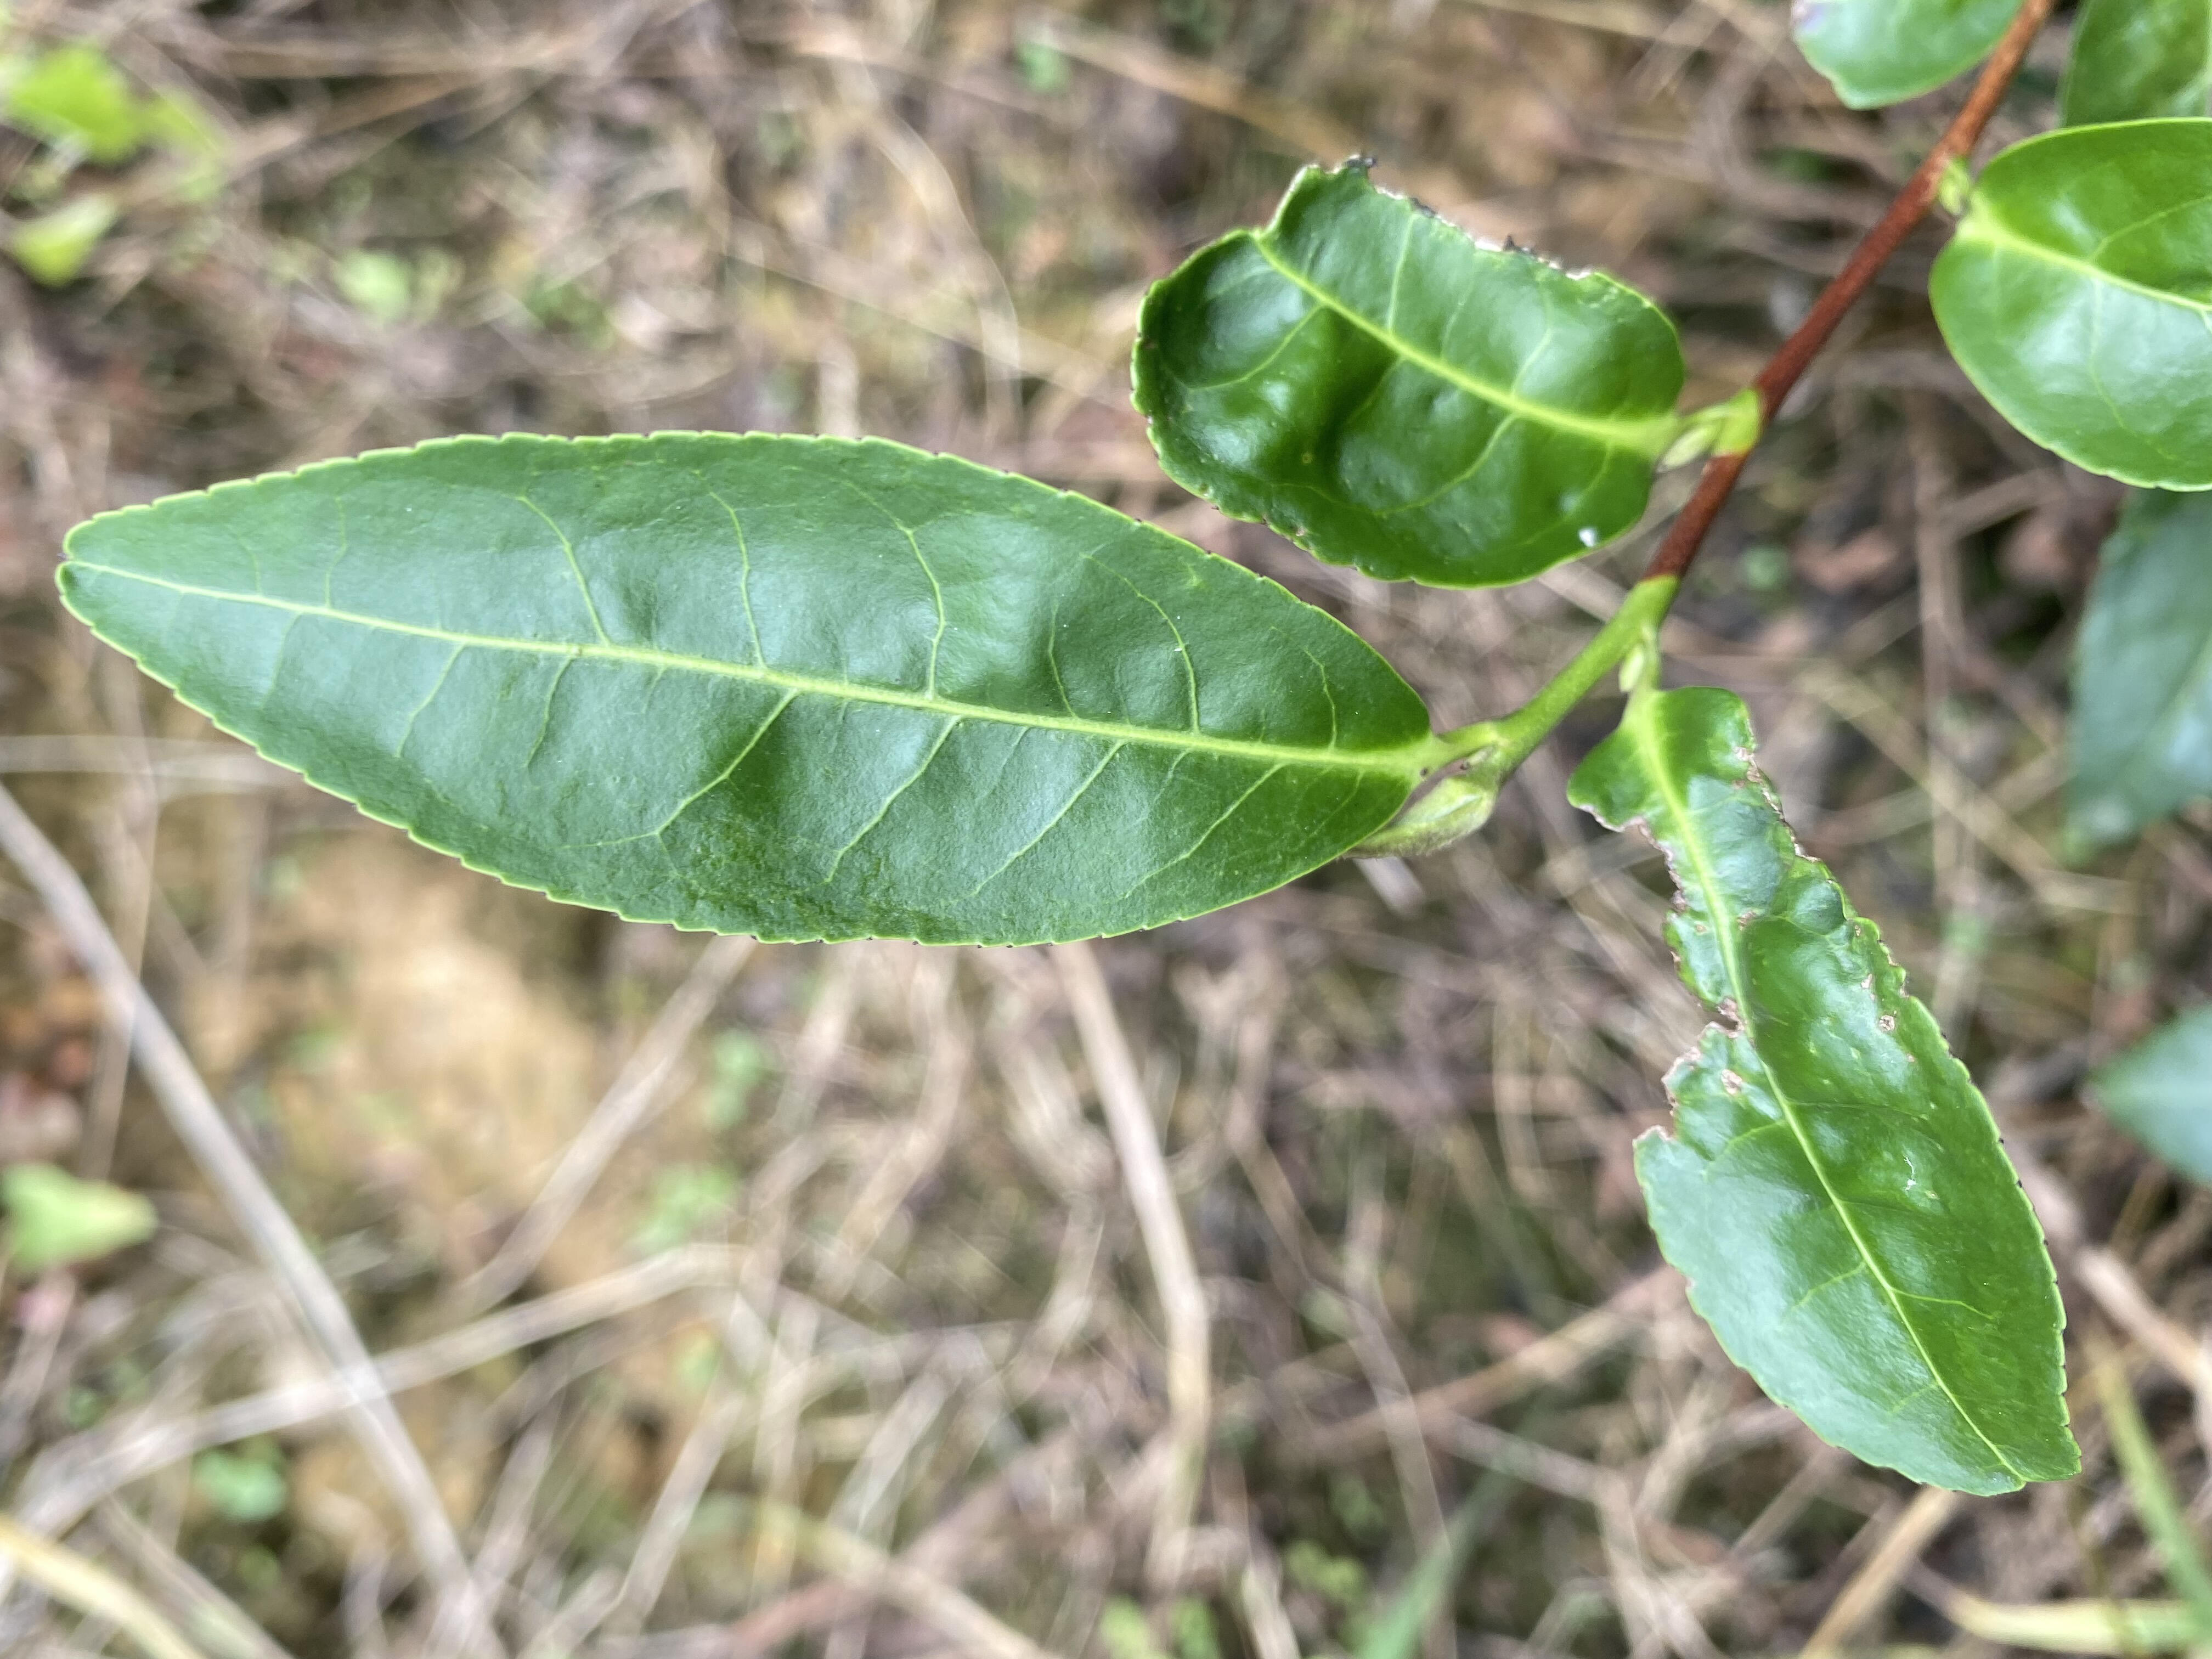chihuo_high: (1562, 687, 2083, 1495), (1127, 148, 1684, 592)
healthy: (54, 423, 1439, 948)
